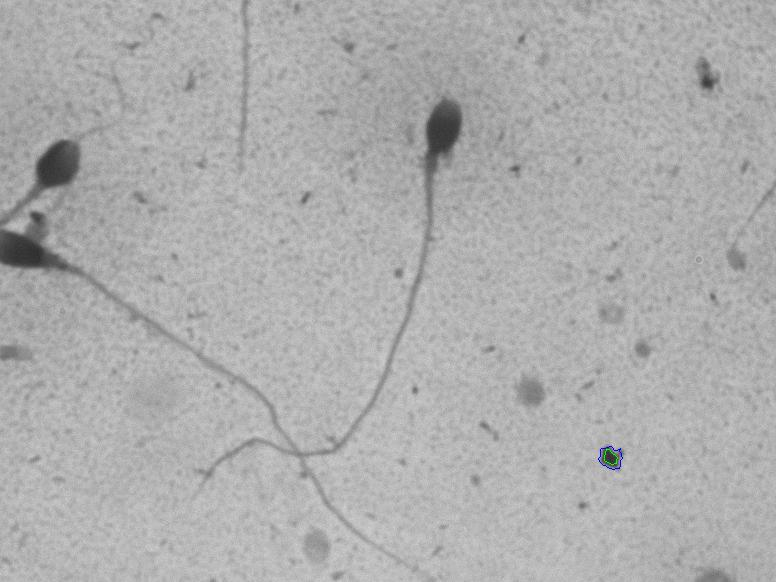Normal: (310, 83, 492, 441)
